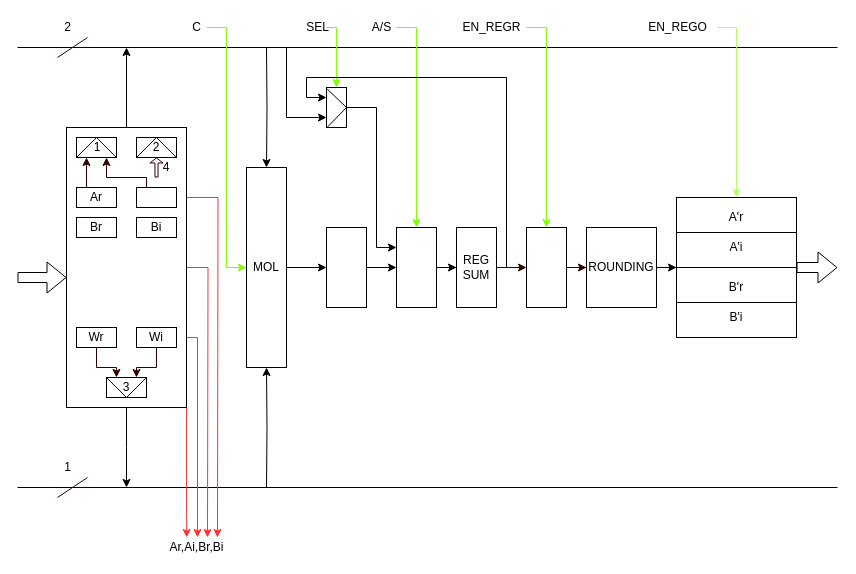
This 856x574 diagram has some shape labels left out. Here are the shapes that lost their labels. From the top down, the box of each, then its label:
(136, 186, 176, 208): Ai
(66, 126, 186, 408): RF
(326, 226, 366, 308): REG MOL
(396, 226, 436, 308): SUM
(526, 226, 566, 308): REG ROU
(676, 196, 796, 338): REG OUT
